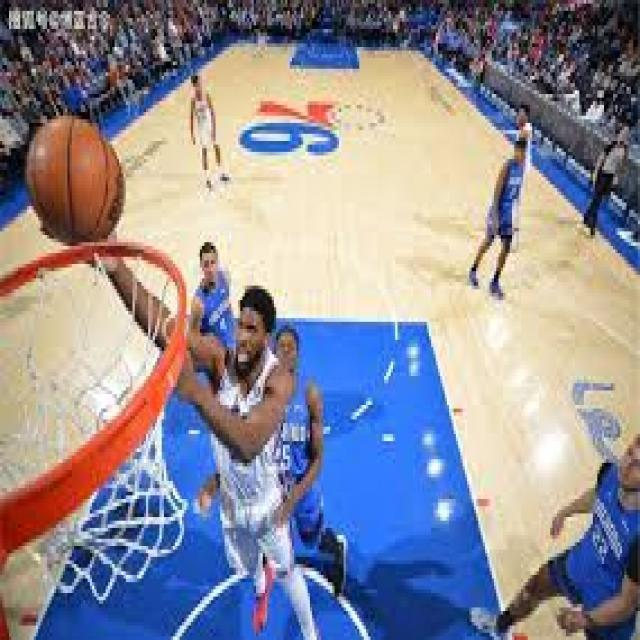rim: (29, 122, 126, 232)
